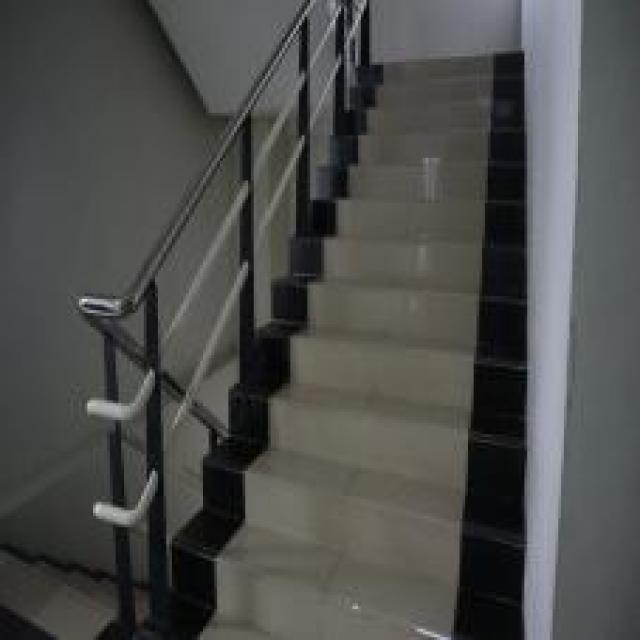upstair: (331, 165, 520, 492)
